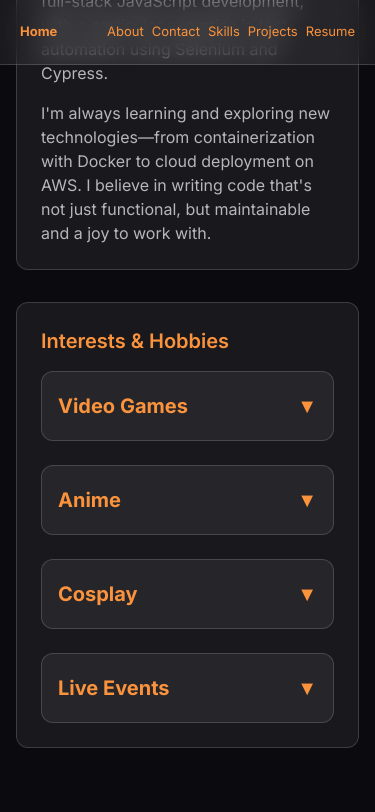
Test: About Page (Mobile) › expands a hobby disclosure and shows favorites
(page scrolled)
Click the button with test id "disclosure-card-button-video-games": click(188, 406) [58,388,317,424]
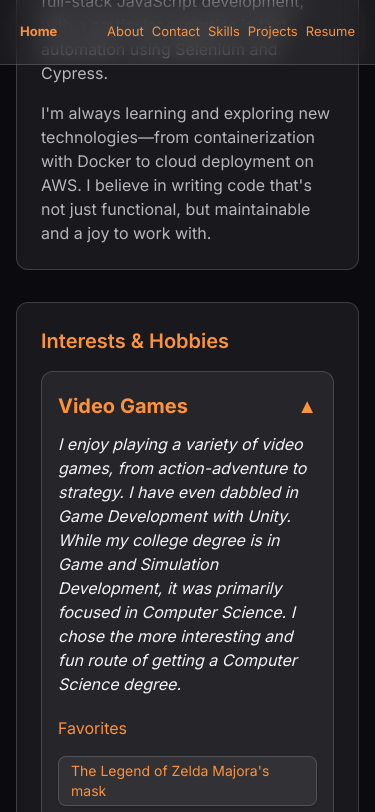
Expected: the element with test id "favorites-title" is shown, [58,756,317,811]
Expected: the text "The Legend of Zelda Majora's mask" is shown, [58,756,317,806]
